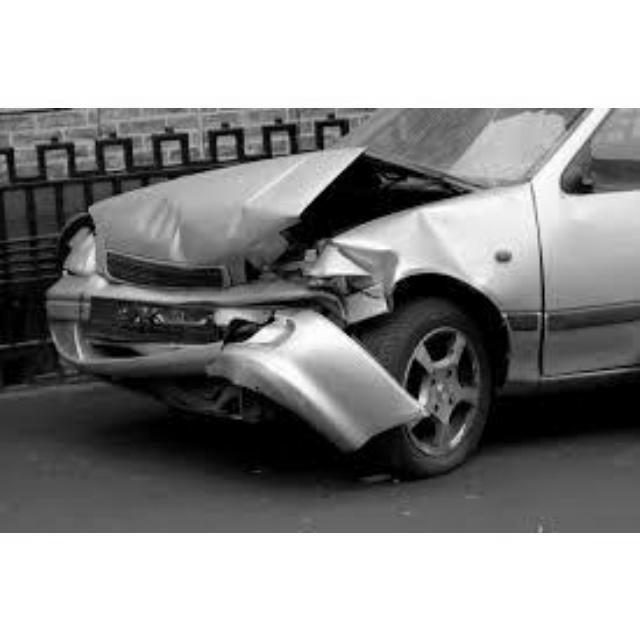bonnet-dent: (98, 143, 388, 254)
fender-dent: (391, 203, 535, 300)
front-bumper-dent: (50, 289, 359, 410)
